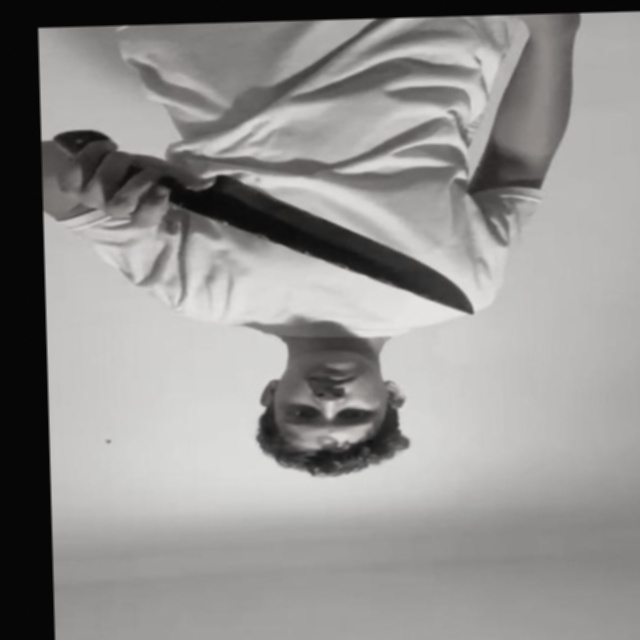Sharp-Object: (189, 170, 474, 323)
